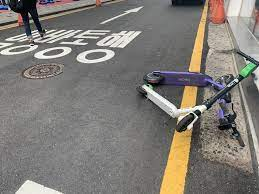fallin_kick: (137, 50, 259, 133), (143, 70, 243, 146)
